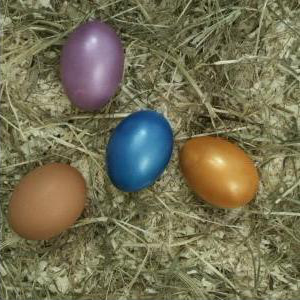egg: (7, 162, 87, 241), (179, 136, 259, 208), (60, 22, 123, 111), (107, 110, 174, 192)
